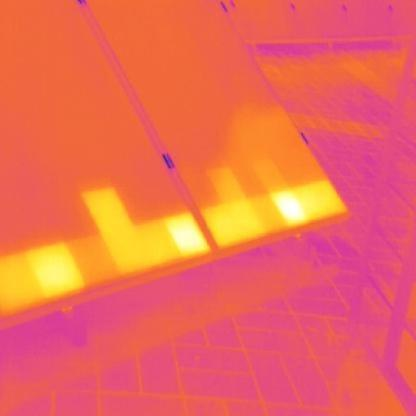anomaly: (0, 187, 200, 314), (204, 169, 348, 245)
